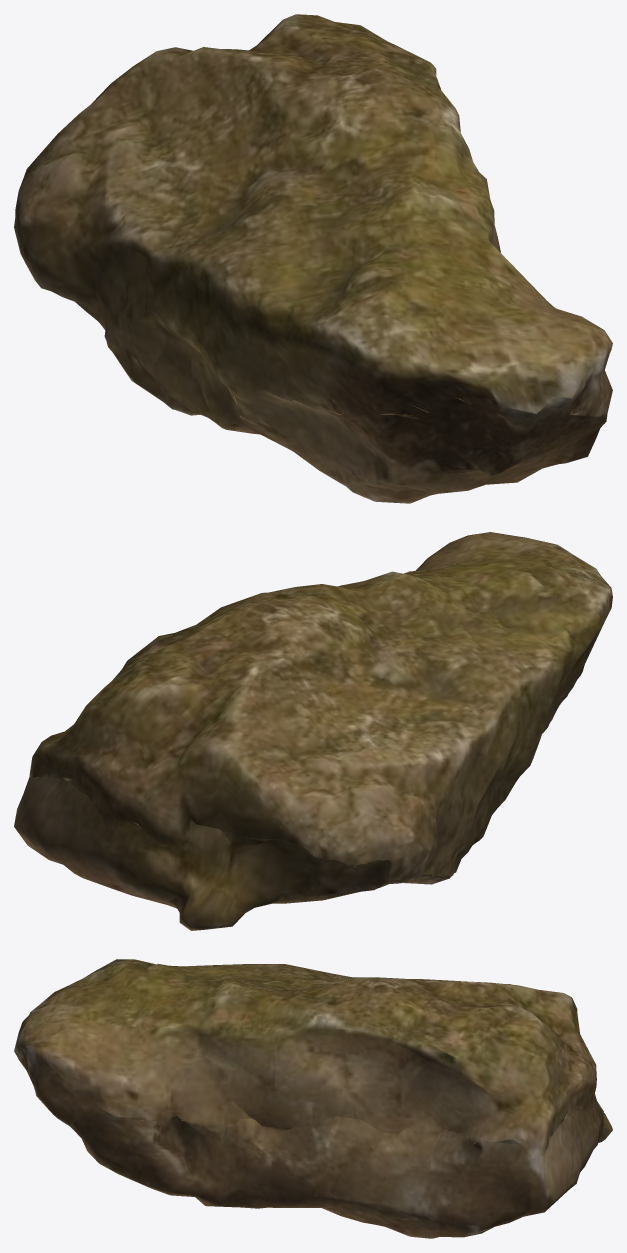
The model's file is rock_moss_set_01_0.glb.
The picture shows the model from 3 angles, top to bottom: view 1: azimuth 30°, elevation 25°; view 2: azimuth 150°, elevation 25°; view 3: azimuth 270°, elevation 25°; orthographic projection. The views are drawn at different scales.
Visible parts, largest first — view 1: rock_moss_set_01_rock05; view 2: rock_moss_set_01_rock05; view 3: rock_moss_set_01_rock05.
Part boxes in pixels (x1,y1,x2,y2): rock_moss_set_01_rock05: (14, 14, 612, 503); rock_moss_set_01_rock05: (14, 532, 612, 930); rock_moss_set_01_rock05: (14, 959, 612, 1238).
Size of the model in its own units: 1.82 by 1.21 by 3.
1 material, 1 textured.
